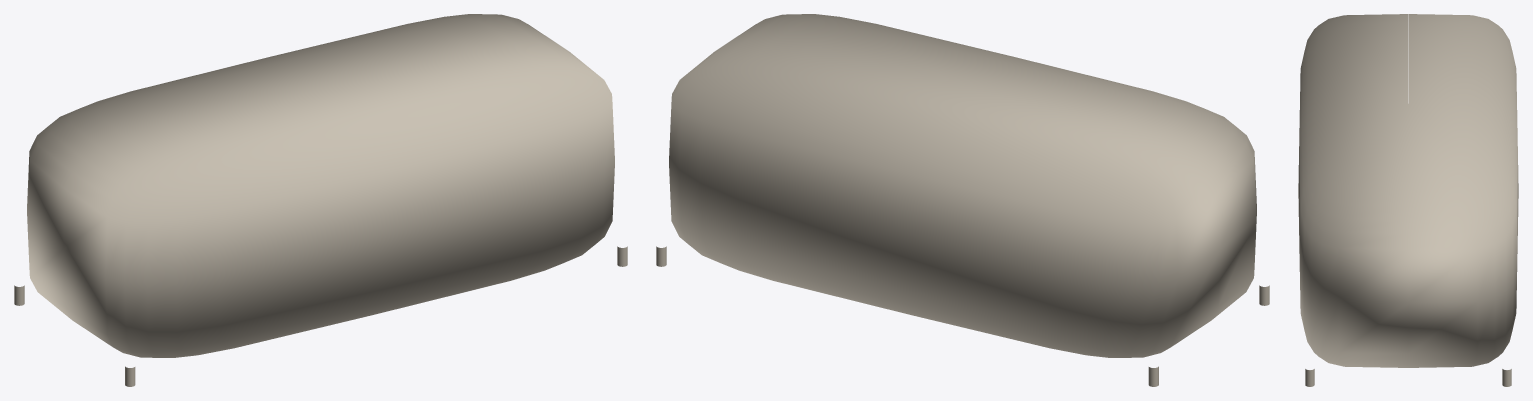
The model's file is ikea-kivik-49440597-g2-proxy.glb.
The picture shows the model from 3 angles, left to right: view 1: azimuth 30°, elevation 25°; view 2: azimuth 150°, elevation 25°; view 3: azimuth 270°, elevation 25°; orthographic projection. The views are drawn at different scales.
Parts seen in each view (by area): view 1: proxy_body; view 2: proxy_body; view 3: proxy_body.
Part boxes in pixels (<box>): proxy_body: <box>27,14,614,357</box>; proxy_body: <box>669,14,1256,357</box>; proxy_body: <box>1298,14,1518,367</box>.
Bounding box in the file's own units: 2.28 × 0.83 × 0.95.
